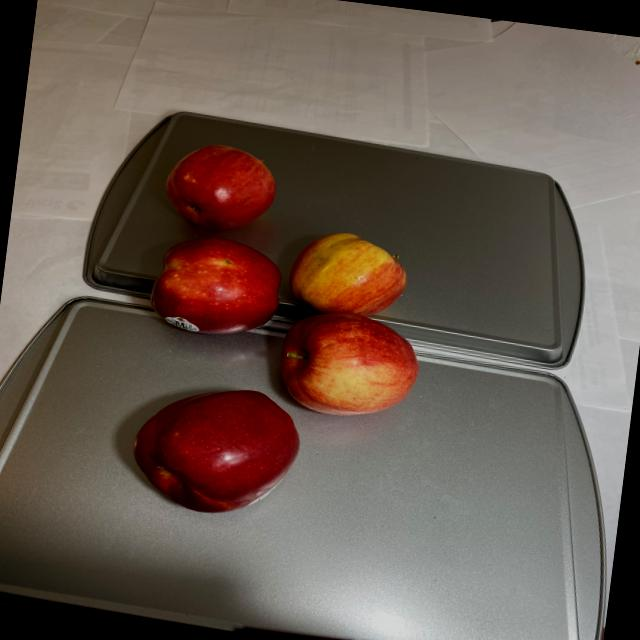apple: (119, 135, 446, 540)
